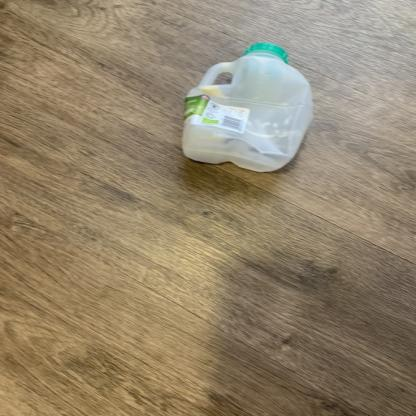trash: (185, 39, 322, 174)
